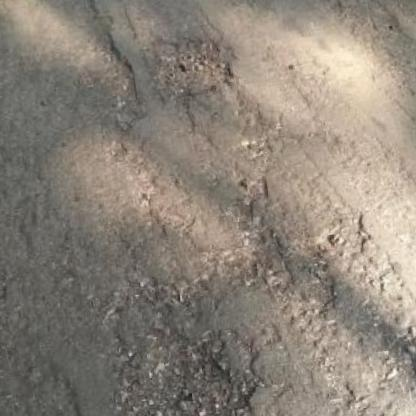pothole: (99, 323, 267, 416), (148, 26, 238, 103)
